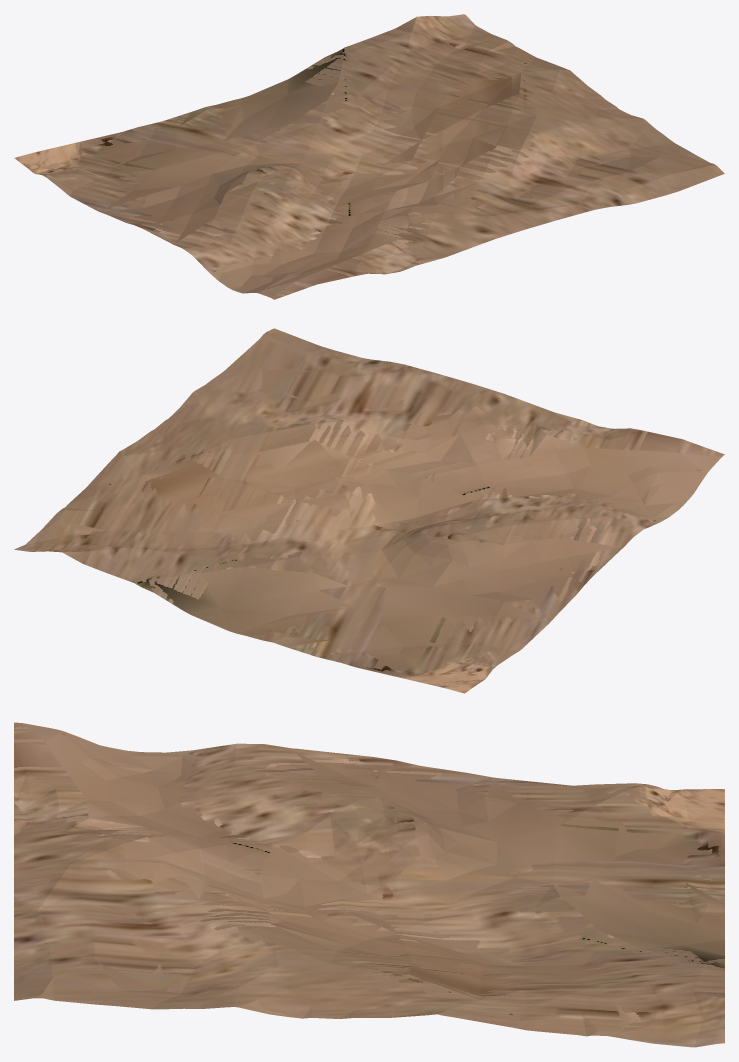
The picture shows the model from 3 angles, top to bottom: view 1: azimuth 30°, elevation 25°; view 2: azimuth 150°, elevation 25°; view 3: azimuth 270°, elevation 25°; orthographic projection. The views are drawn at different scales.
Size of the model in its own units: 1.04 by 0.1536 by 1.04.
Materials: 3 (3 with a texture image).
